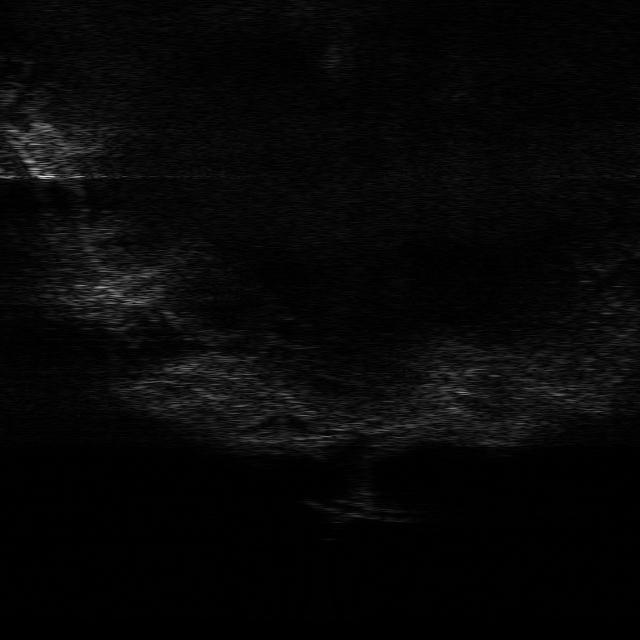plane: (305, 499, 411, 524)
